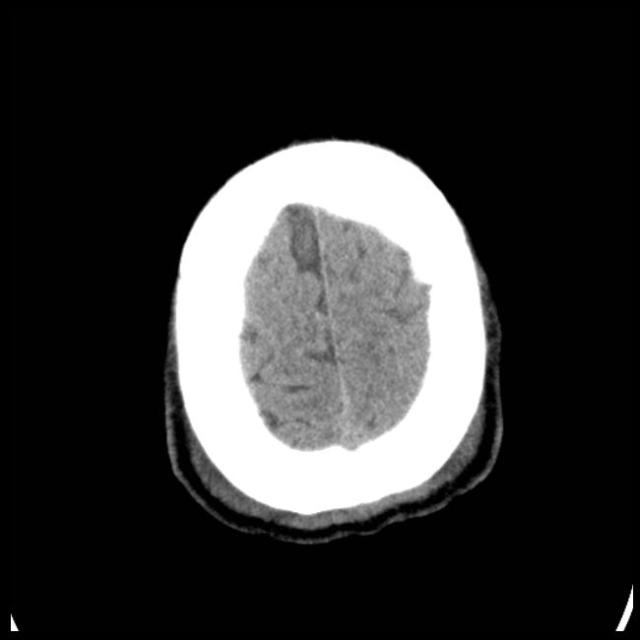lesion: (159, 132, 509, 545)
